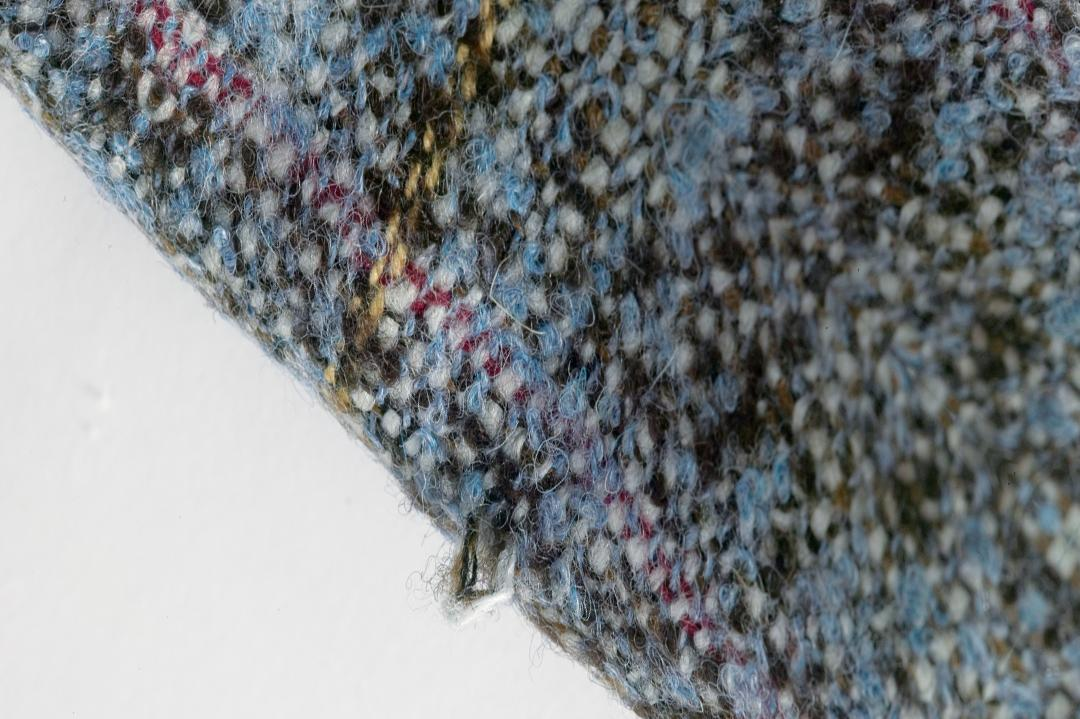snag: (432, 492, 548, 630)
